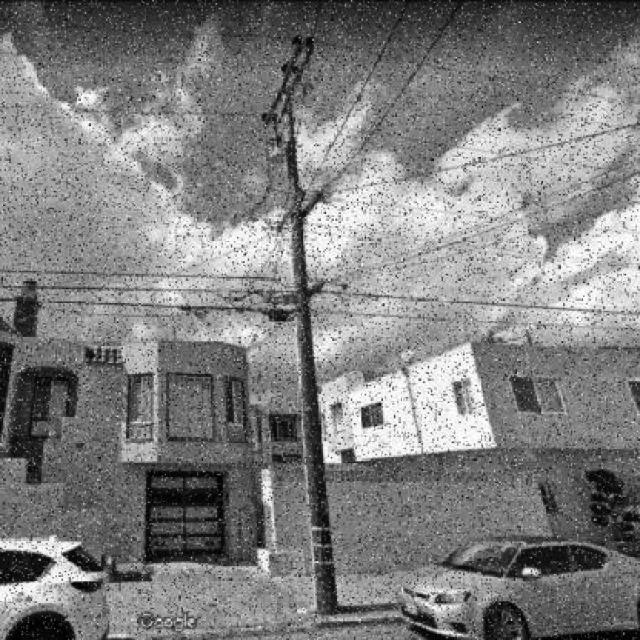crossarm: (263, 37, 314, 132)
pole: (286, 74, 342, 618)
wire: (300, 6, 462, 217), (5, 280, 632, 312), (40, 302, 640, 335)
